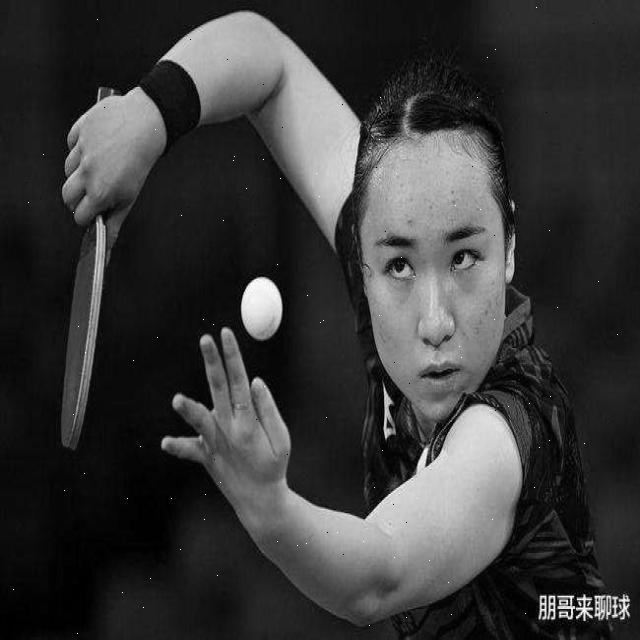ping-pong-ball: (238, 274, 282, 341)
